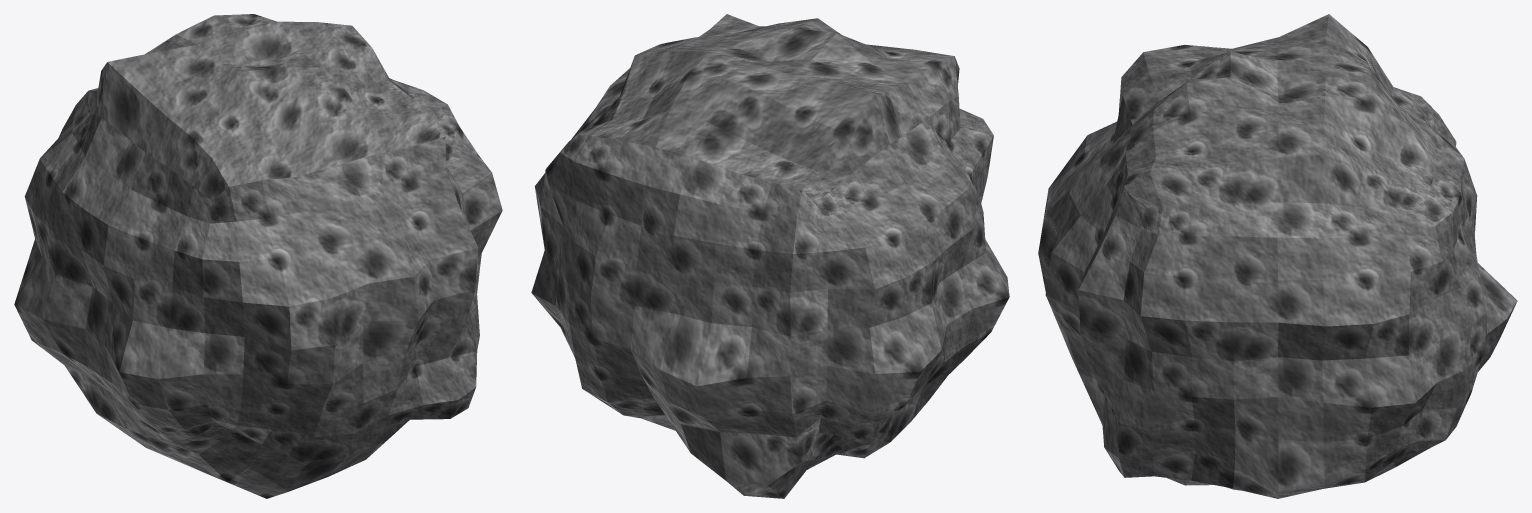
Rendered from asteroid_large.obj.
3 renders of one model, left to right at view 1: azimuth 30°, elevation 25°; view 2: azimuth 150°, elevation 25°; view 3: azimuth 270°, elevation 25°, orthographic.
Parts seen in each view (by area): view 1: asteroid_large; view 2: asteroid_large; view 3: asteroid_large.
Boxes of the visible parts, x1=… form: asteroid_large: x1=14, y1=14, x2=502, y2=498; asteroid_large: x1=531, y1=14, x2=1009, y2=498; asteroid_large: x1=1038, y1=14, x2=1517, y2=498.
Bounding box in the file's own units: 6.5 × 6.52 × 6.88.
Materials: 1 (1 with a texture image).
